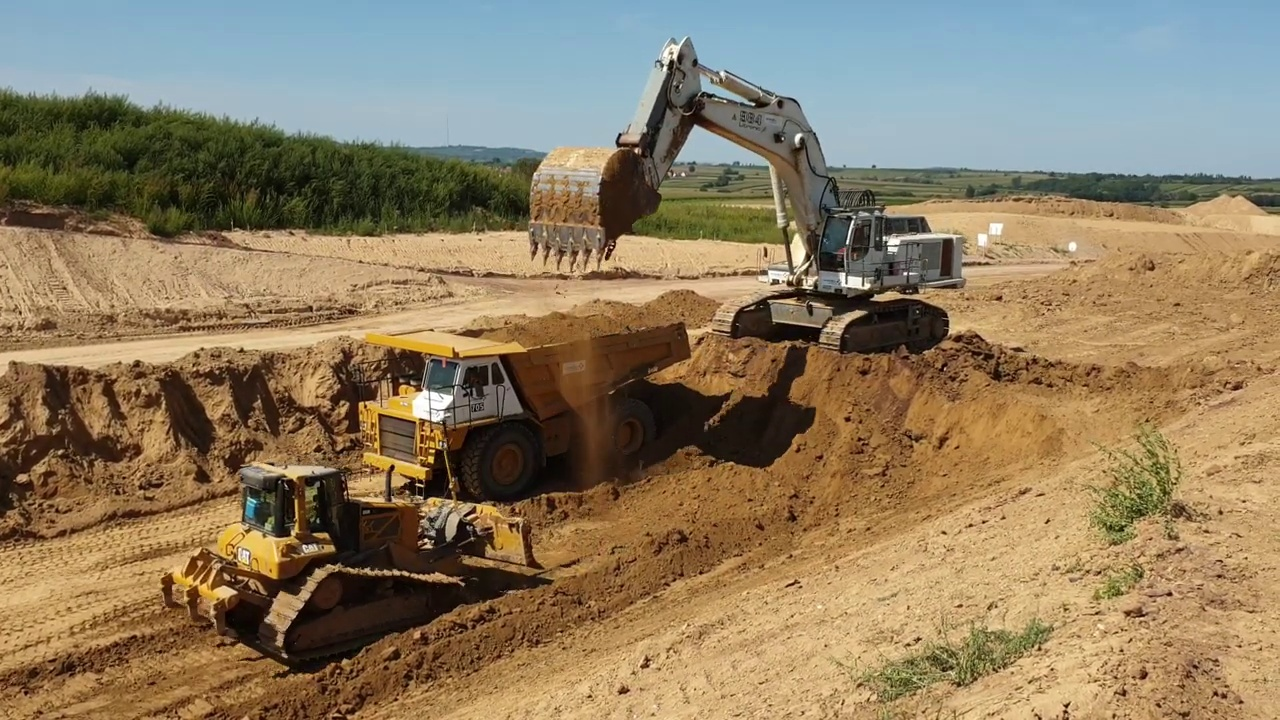bulldozer: (157, 433, 550, 668)
excavator: (525, 30, 971, 358)
truck: (350, 306, 698, 505)
